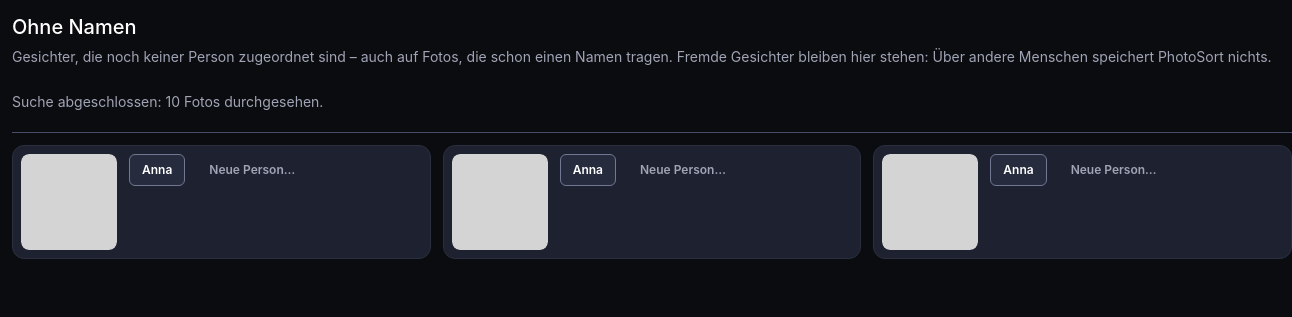
Test: UnnamedFacesGroup - Ablehnungen › schließt bei "zwei Personen" das Formular und lädt die Personenliste neu
The image size is (1292, 317).
Click the 1st button "Neue Person…" at [252, 170], box [197, 154, 307, 186]
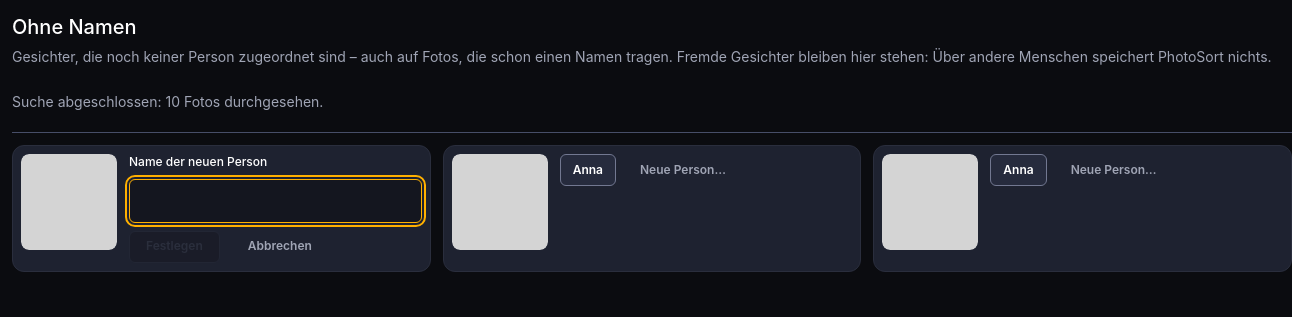
Type "Carla" into the field labelled "Name der neuen Person" at [275, 201], box [129, 179, 422, 223]
Then press Enter
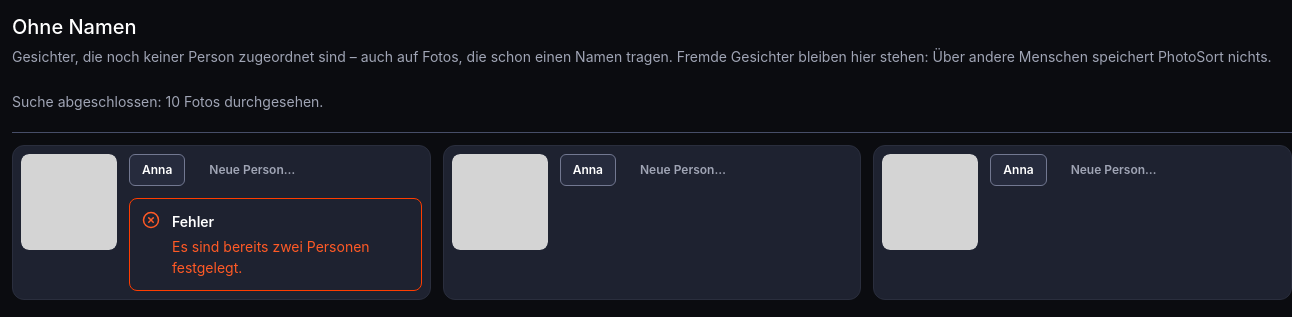
Expected: the message shows "Es sind bereits zwei Personen festgelegt.", [172, 238, 370, 276]
Expected: the label labelled "Name der neuen Person" is gone
